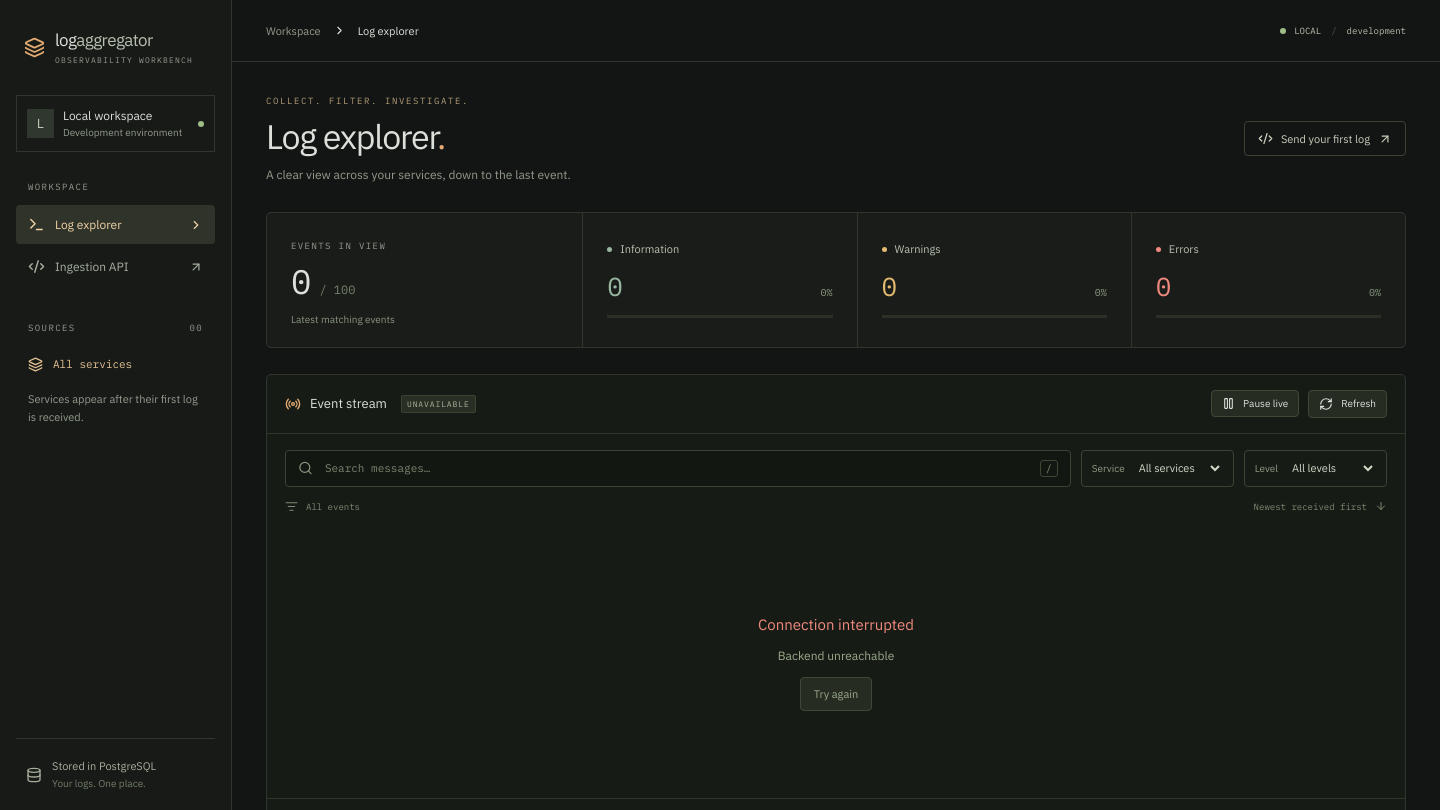
Scenario: shows backend failures and retries successfully
Check: the message "Connection interrupted Backend unreachable Try again" is shown, box [758,615,914,711]
Click the button "Try again": (836, 694) [800,677,872,711]
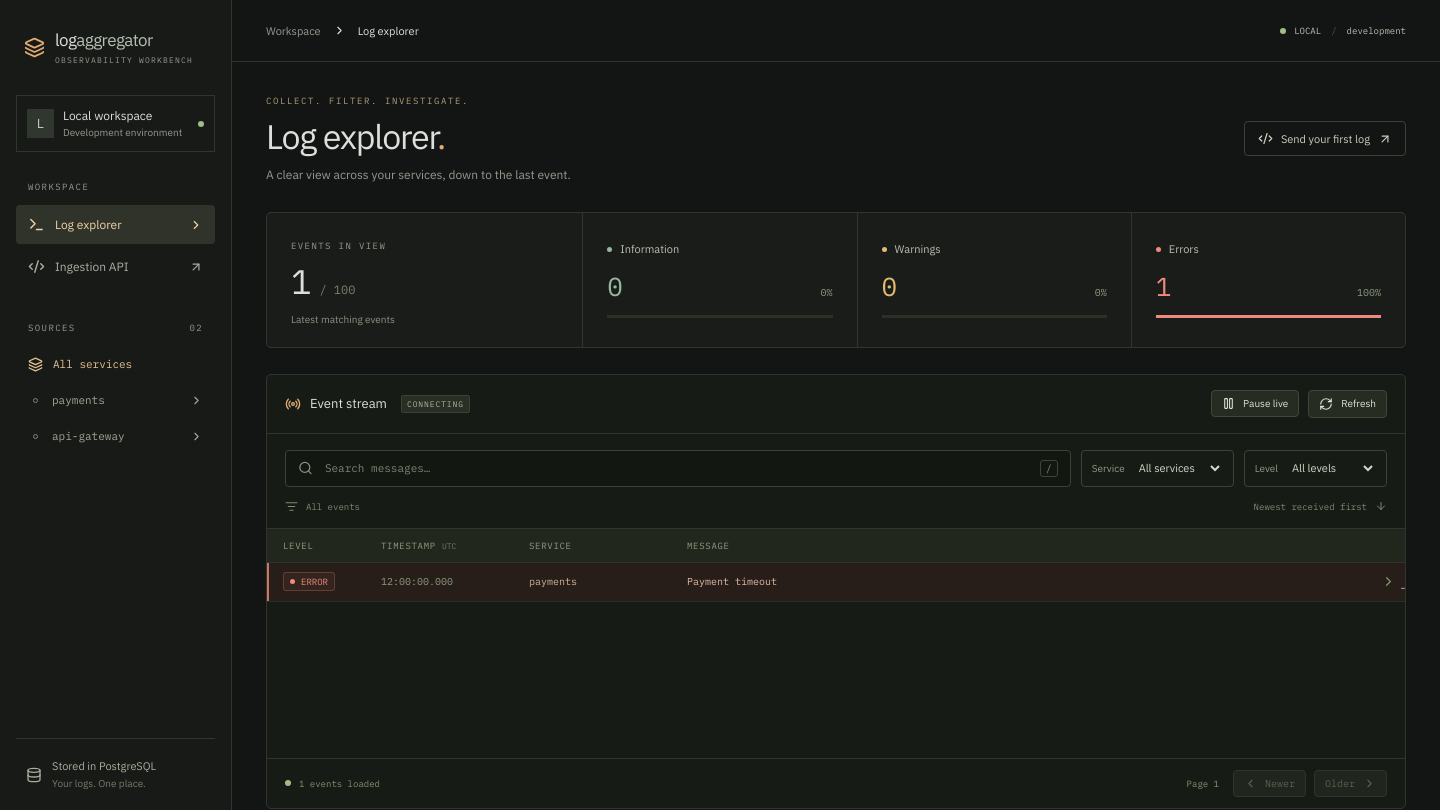
Check: the button "Payment timeout" is shown, box [687,566,1369,598]
